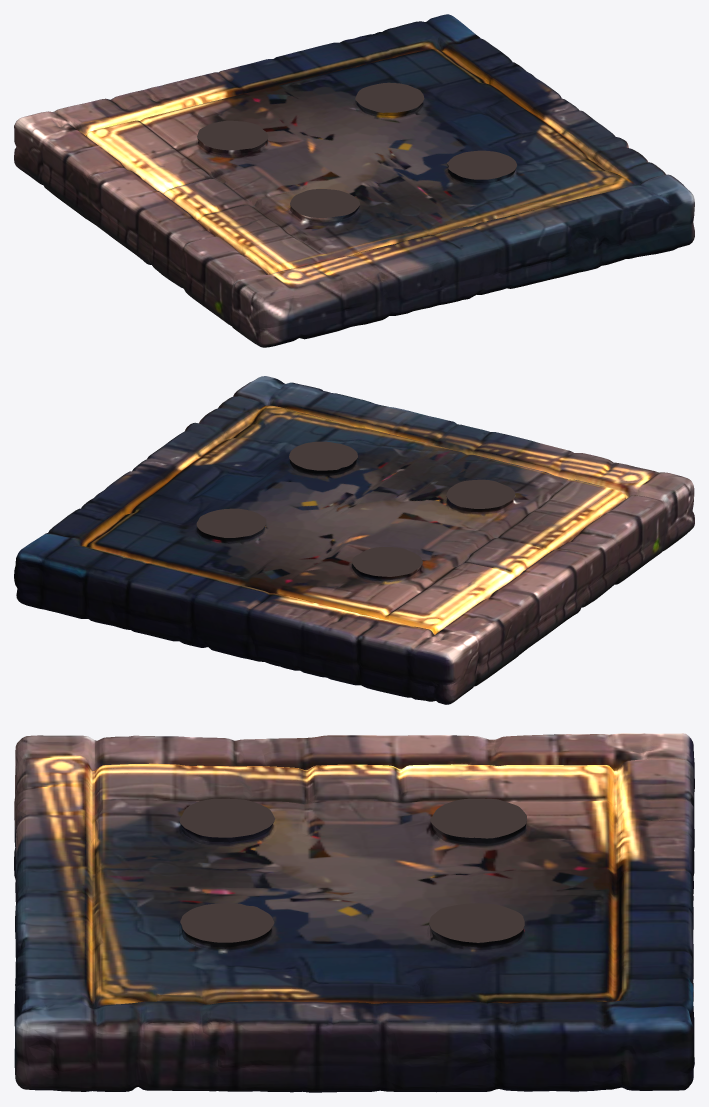
Rendered from war_rocket_plate.glb.
3 renders of one model, top to bottom at view 1: azimuth 30°, elevation 25°; view 2: azimuth 150°, elevation 25°; view 3: azimuth 270°, elevation 25°, orthographic. The views are drawn at different scales.
Parts seen in each view (by area): view 1: war_rocket_plate; view 2: war_rocket_plate; view 3: war_rocket_plate.
Boxes of the visible parts, x1,y1,x2,y2 form: war_rocket_plate: (14,14,694,347); war_rocket_plate: (14,376,694,704); war_rocket_plate: (14,733,694,1092).
Bounding box in the file's own units: 2 × 0.2538 × 1.96.
1 material, 1 textured.
